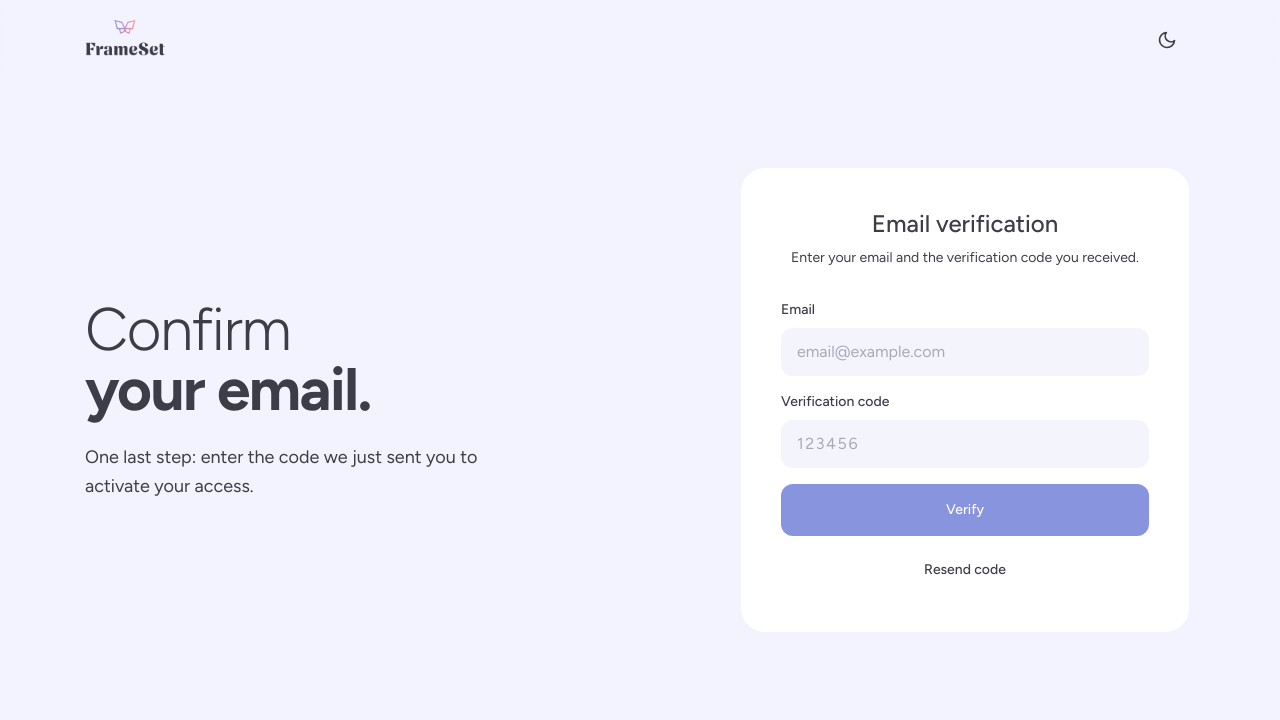
it: Verify › demands the email before verifying when none was provided
This screenshot has width=1280, height=720.
What coordinates should you click on to do the following:
click the button "Verify"
I would click on:
 (965, 510)
Its box is [781, 484, 1149, 536].
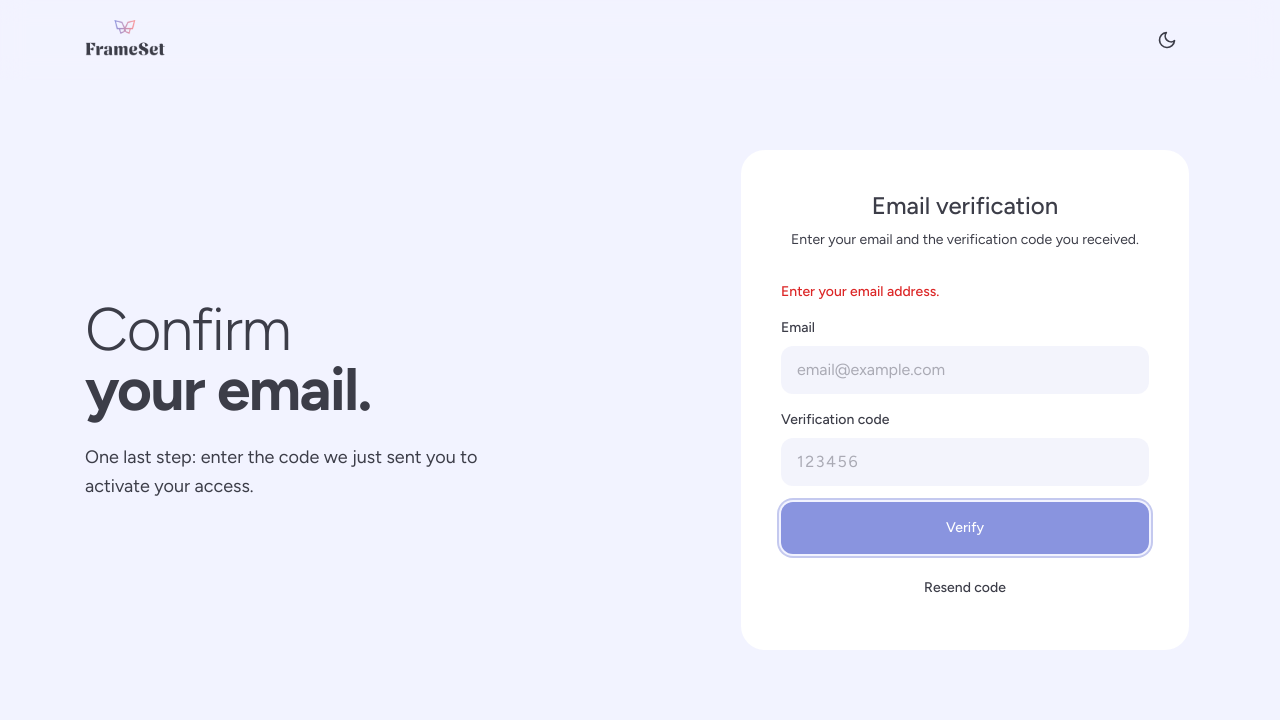
Expected: the text "Enter your email address." is shown, [781, 283, 939, 300]
